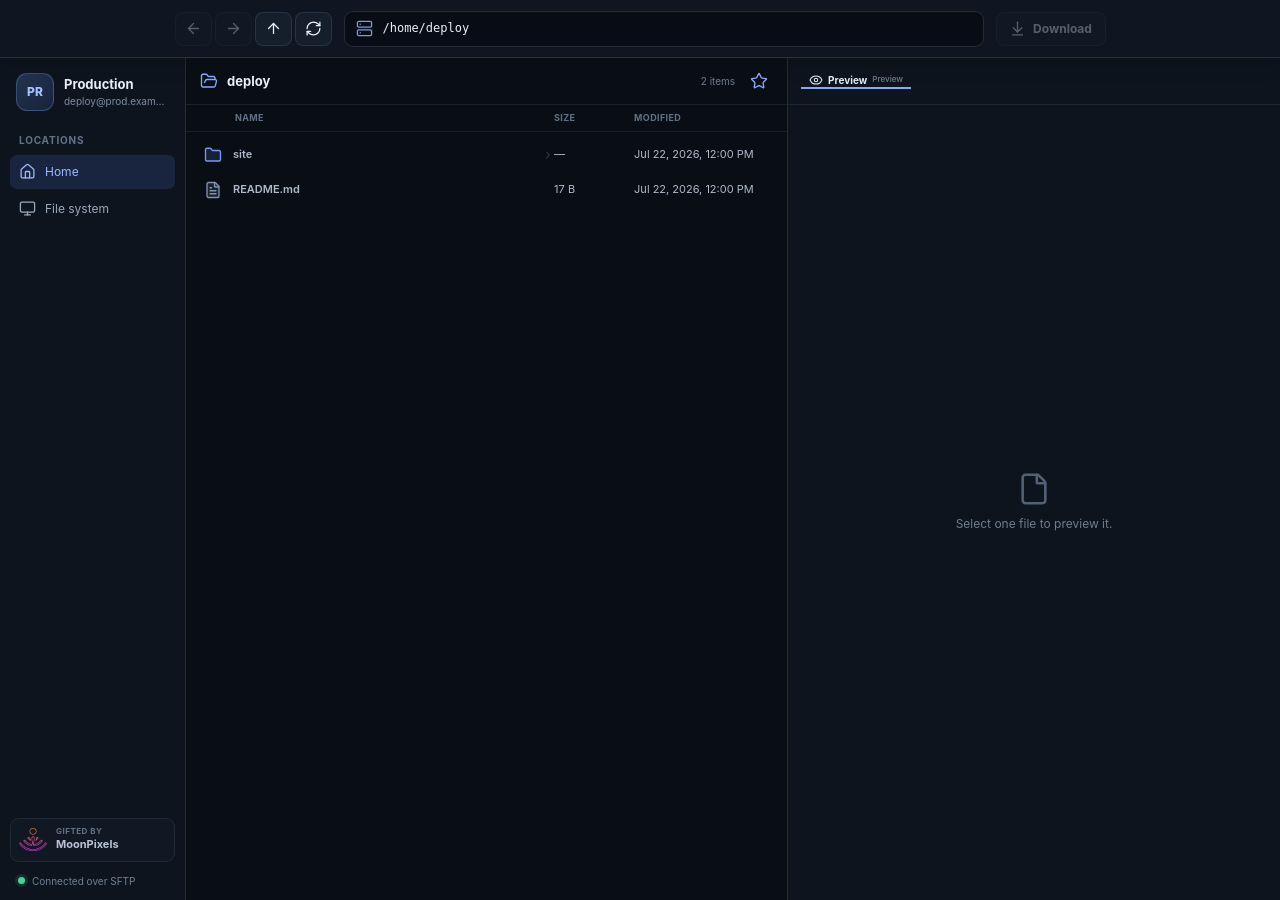
Scenario: server explorer window › browses folders and renders remote markdown
Expected: the field showing "/home/deploy" is shown, 380,19 -> 972,38
Click the option "README.md 17 B Jul 22, 2026, 12:00 PM" at x=266, y=189, box 204,180 -> 754,198
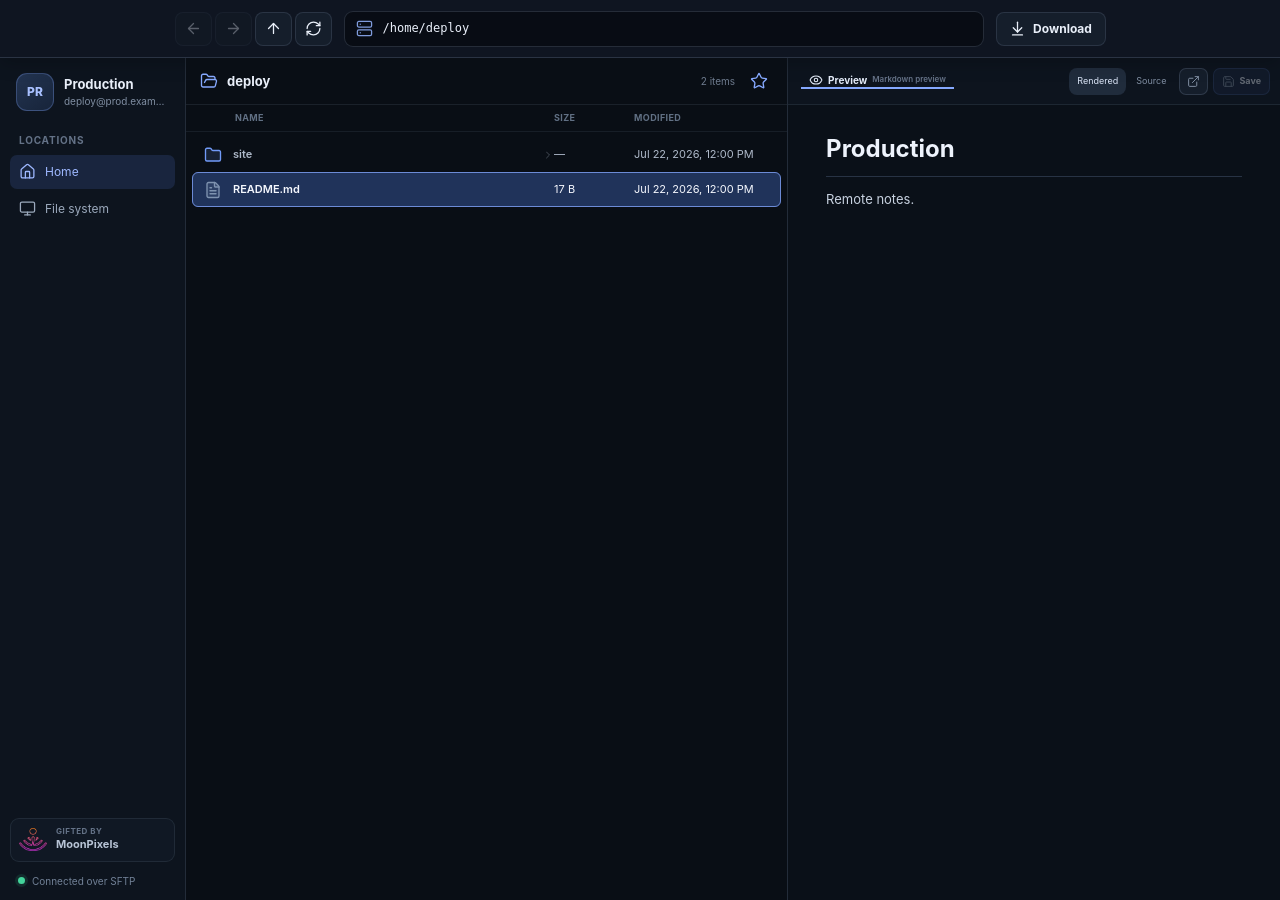
Now the heading "Production" is shown, box 826,129 -> 1242,177
Now the text "Remote notes." is shown, box 826,191 -> 914,207
Double-click the option "site — Jul 22, 2026, 12:00 PM" at x=694, y=154, box 204,146 -> 754,164
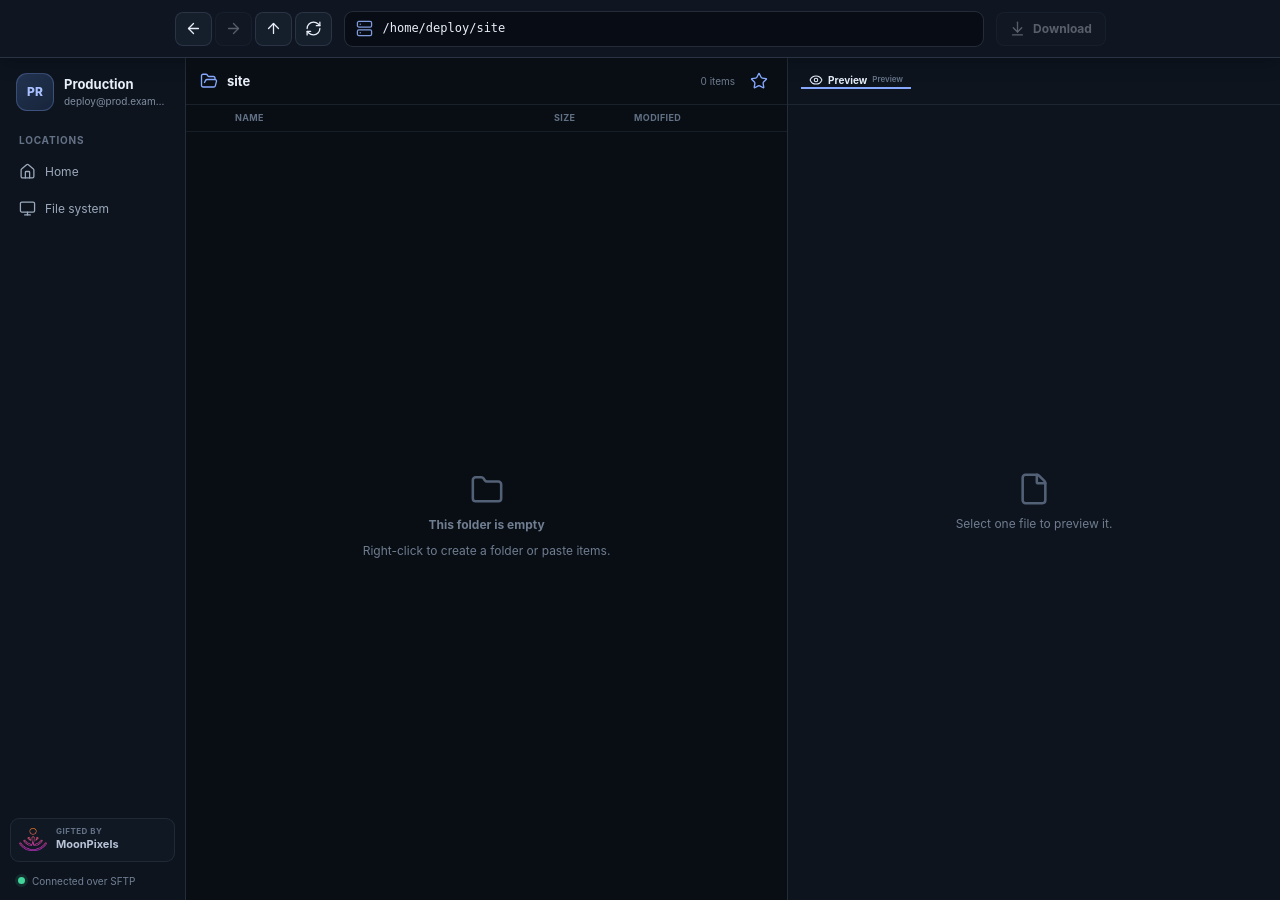
Now the text "This folder is empty" is shown, box 428,516 -> 545,533
